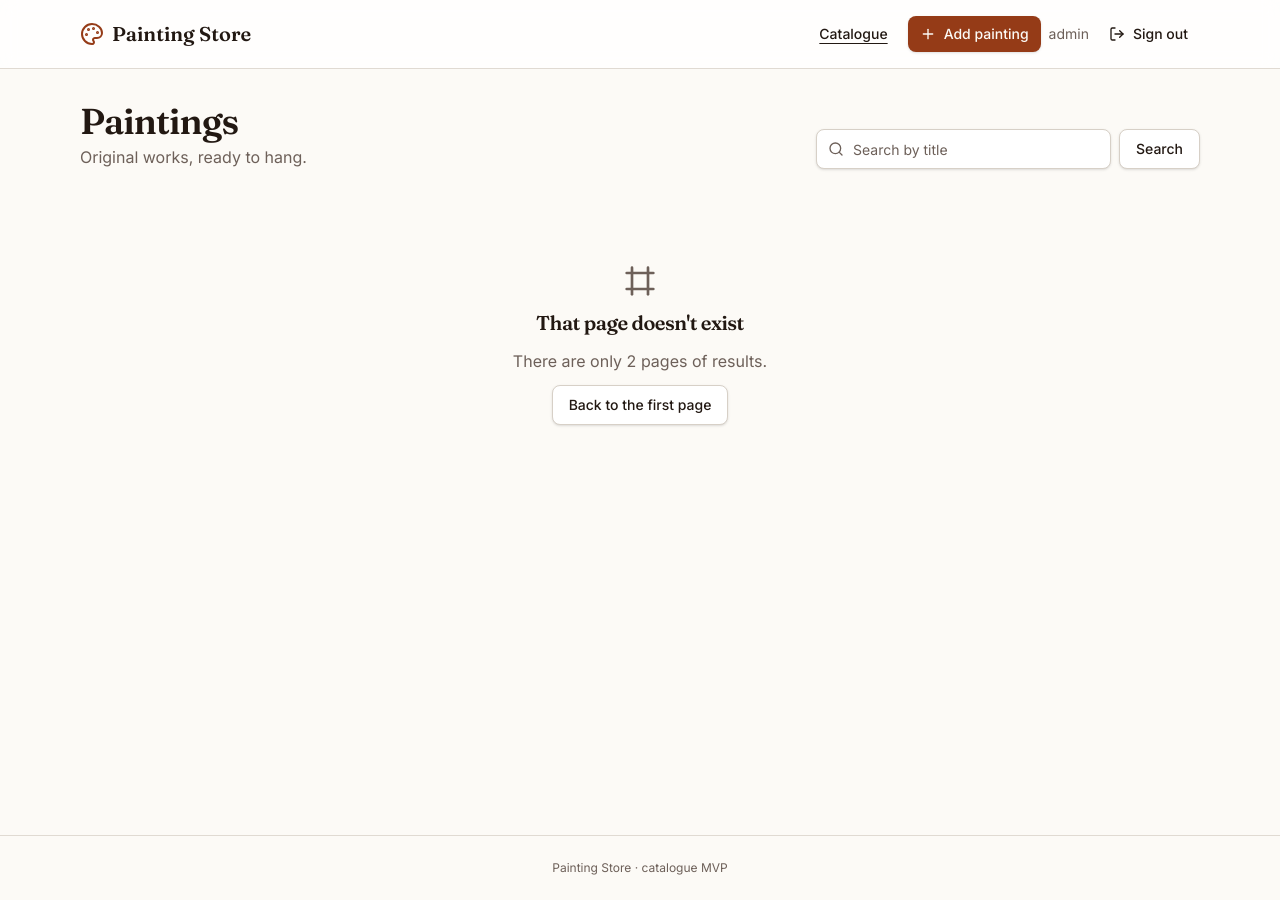
Test: PaintingListPage › pagination › offers a way back when the requested page is past the end
The image size is (1280, 900).
Expected: the heading "That page doesn't exist" is shown, [536,309,744,337]
Click the button "Back to the first page" at [640, 405], box [552,385,728,425]
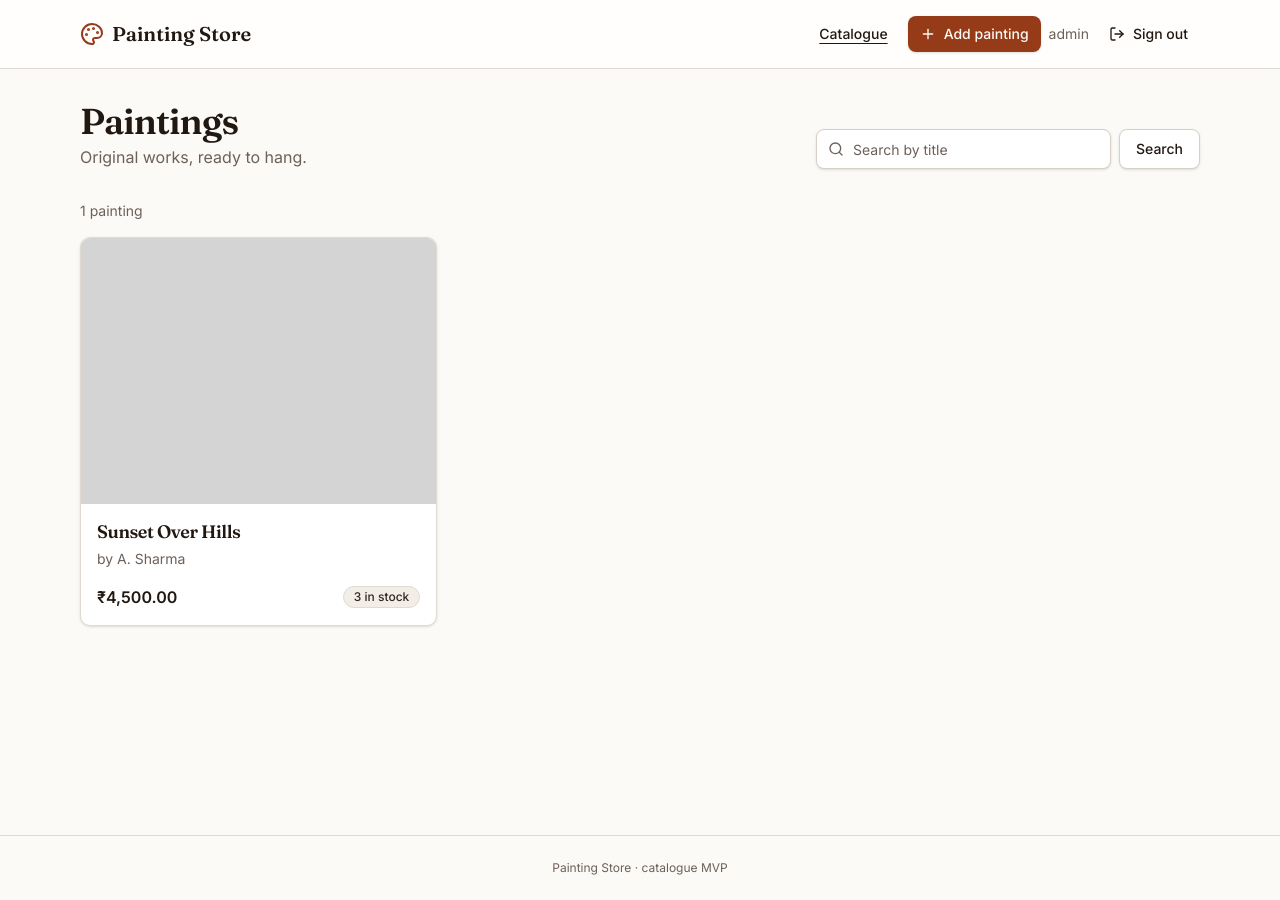
Now the link "Sunset Over Hills" is shown, box [97,520,240,544]
